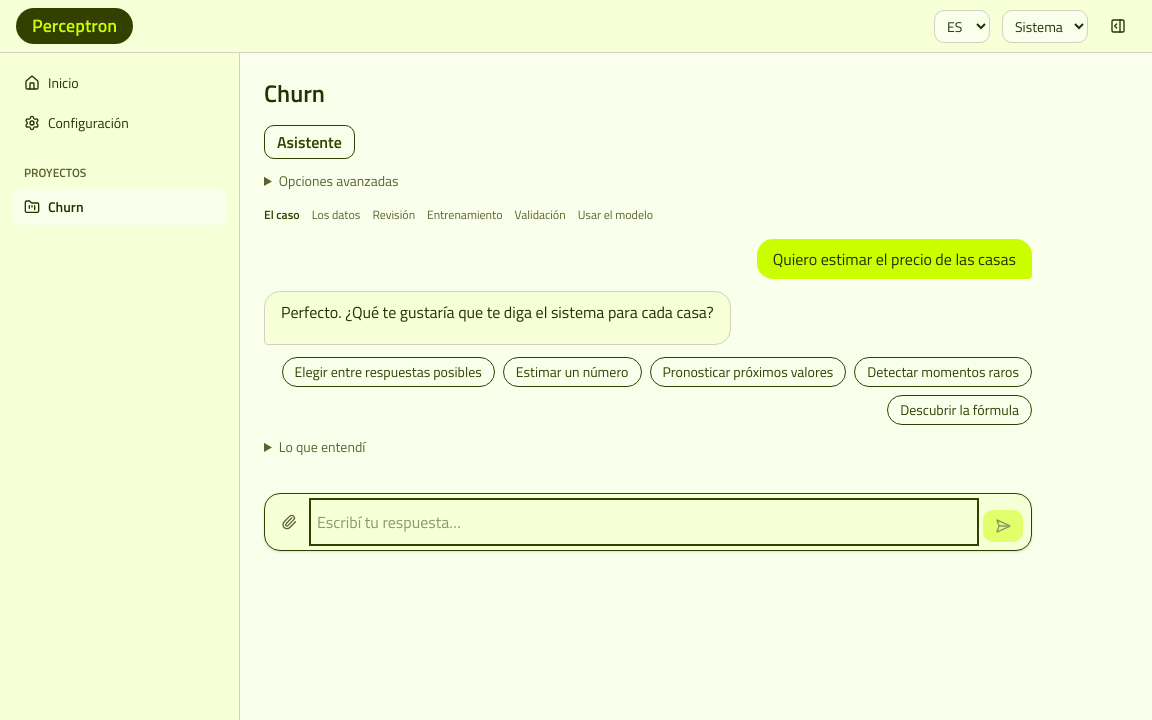
entrevista: el asistente pregunta y ofrece respuestas rápidas; elegir una responde
Check: the text "Quiero estimar el precio de las casas" is shown, box [773,247,1016,271]
Check: the text "¿Qué te gustaría que te diga el sistema" is shown, box [281,300,714,324]
Click the button "Estimar un número". click: (572, 372)
box: [503,357,642,387]
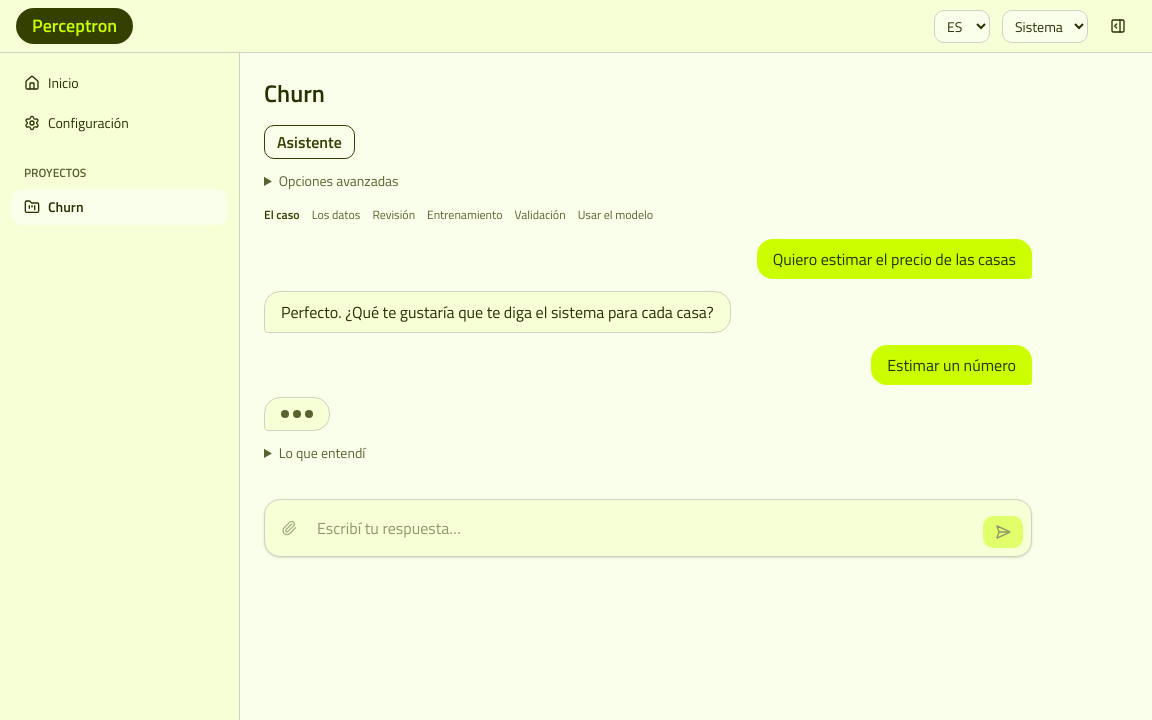
Check: the text "Estimar un número" is shown, box [887,353,1016,377]
Check: the message named "El asistente está escribiendo" is shown, box [264,397,330,431]
